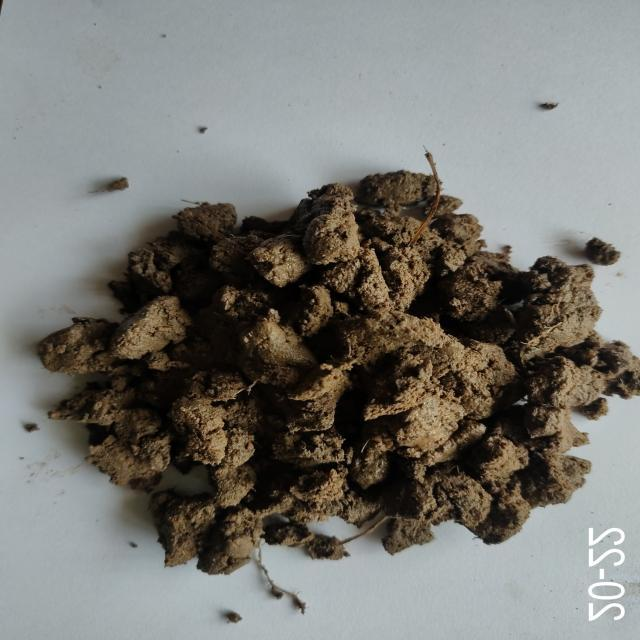soil: (206, 260, 536, 502)
